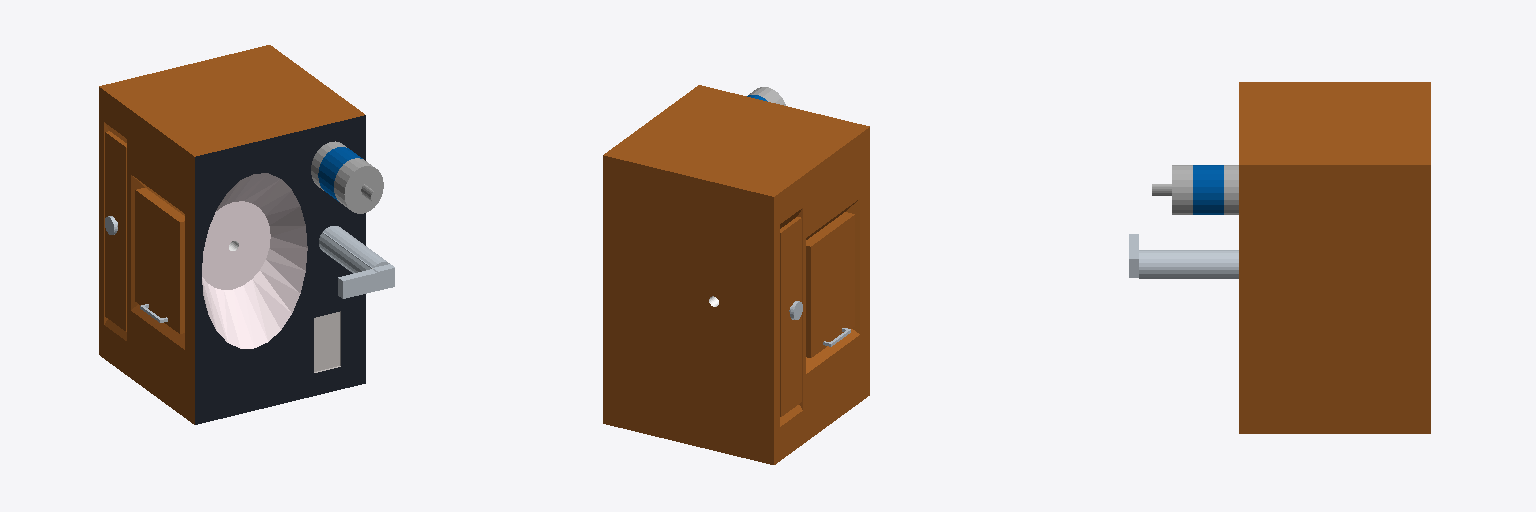
The model's file is washing_basin.obj.
The picture shows the model from 3 angles: view 1: azimuth 30°, elevation 25°; view 2: azimuth 150°, elevation 25°; view 3: azimuth 270°, elevation 25°; orthographic projection.
Parts seen in each view (by area): view 1: Mesh1 skp6ygIAs1 Model; view 2: Mesh1 skp6ygIAs1 Model; view 3: Mesh1 skp6ygIAs1 Model.
Boxes of the visible parts, <box> form: Mesh1 skp6ygIAs1 Model: <box>99,45,394,424</box>; Mesh1 skp6ygIAs1 Model: <box>603,85,869,464</box>; Mesh1 skp6ygIAs1 Model: <box>1129,82,1430,433</box>.
Size of the model in its own units: 1.02 by 1.47 by 1.5.